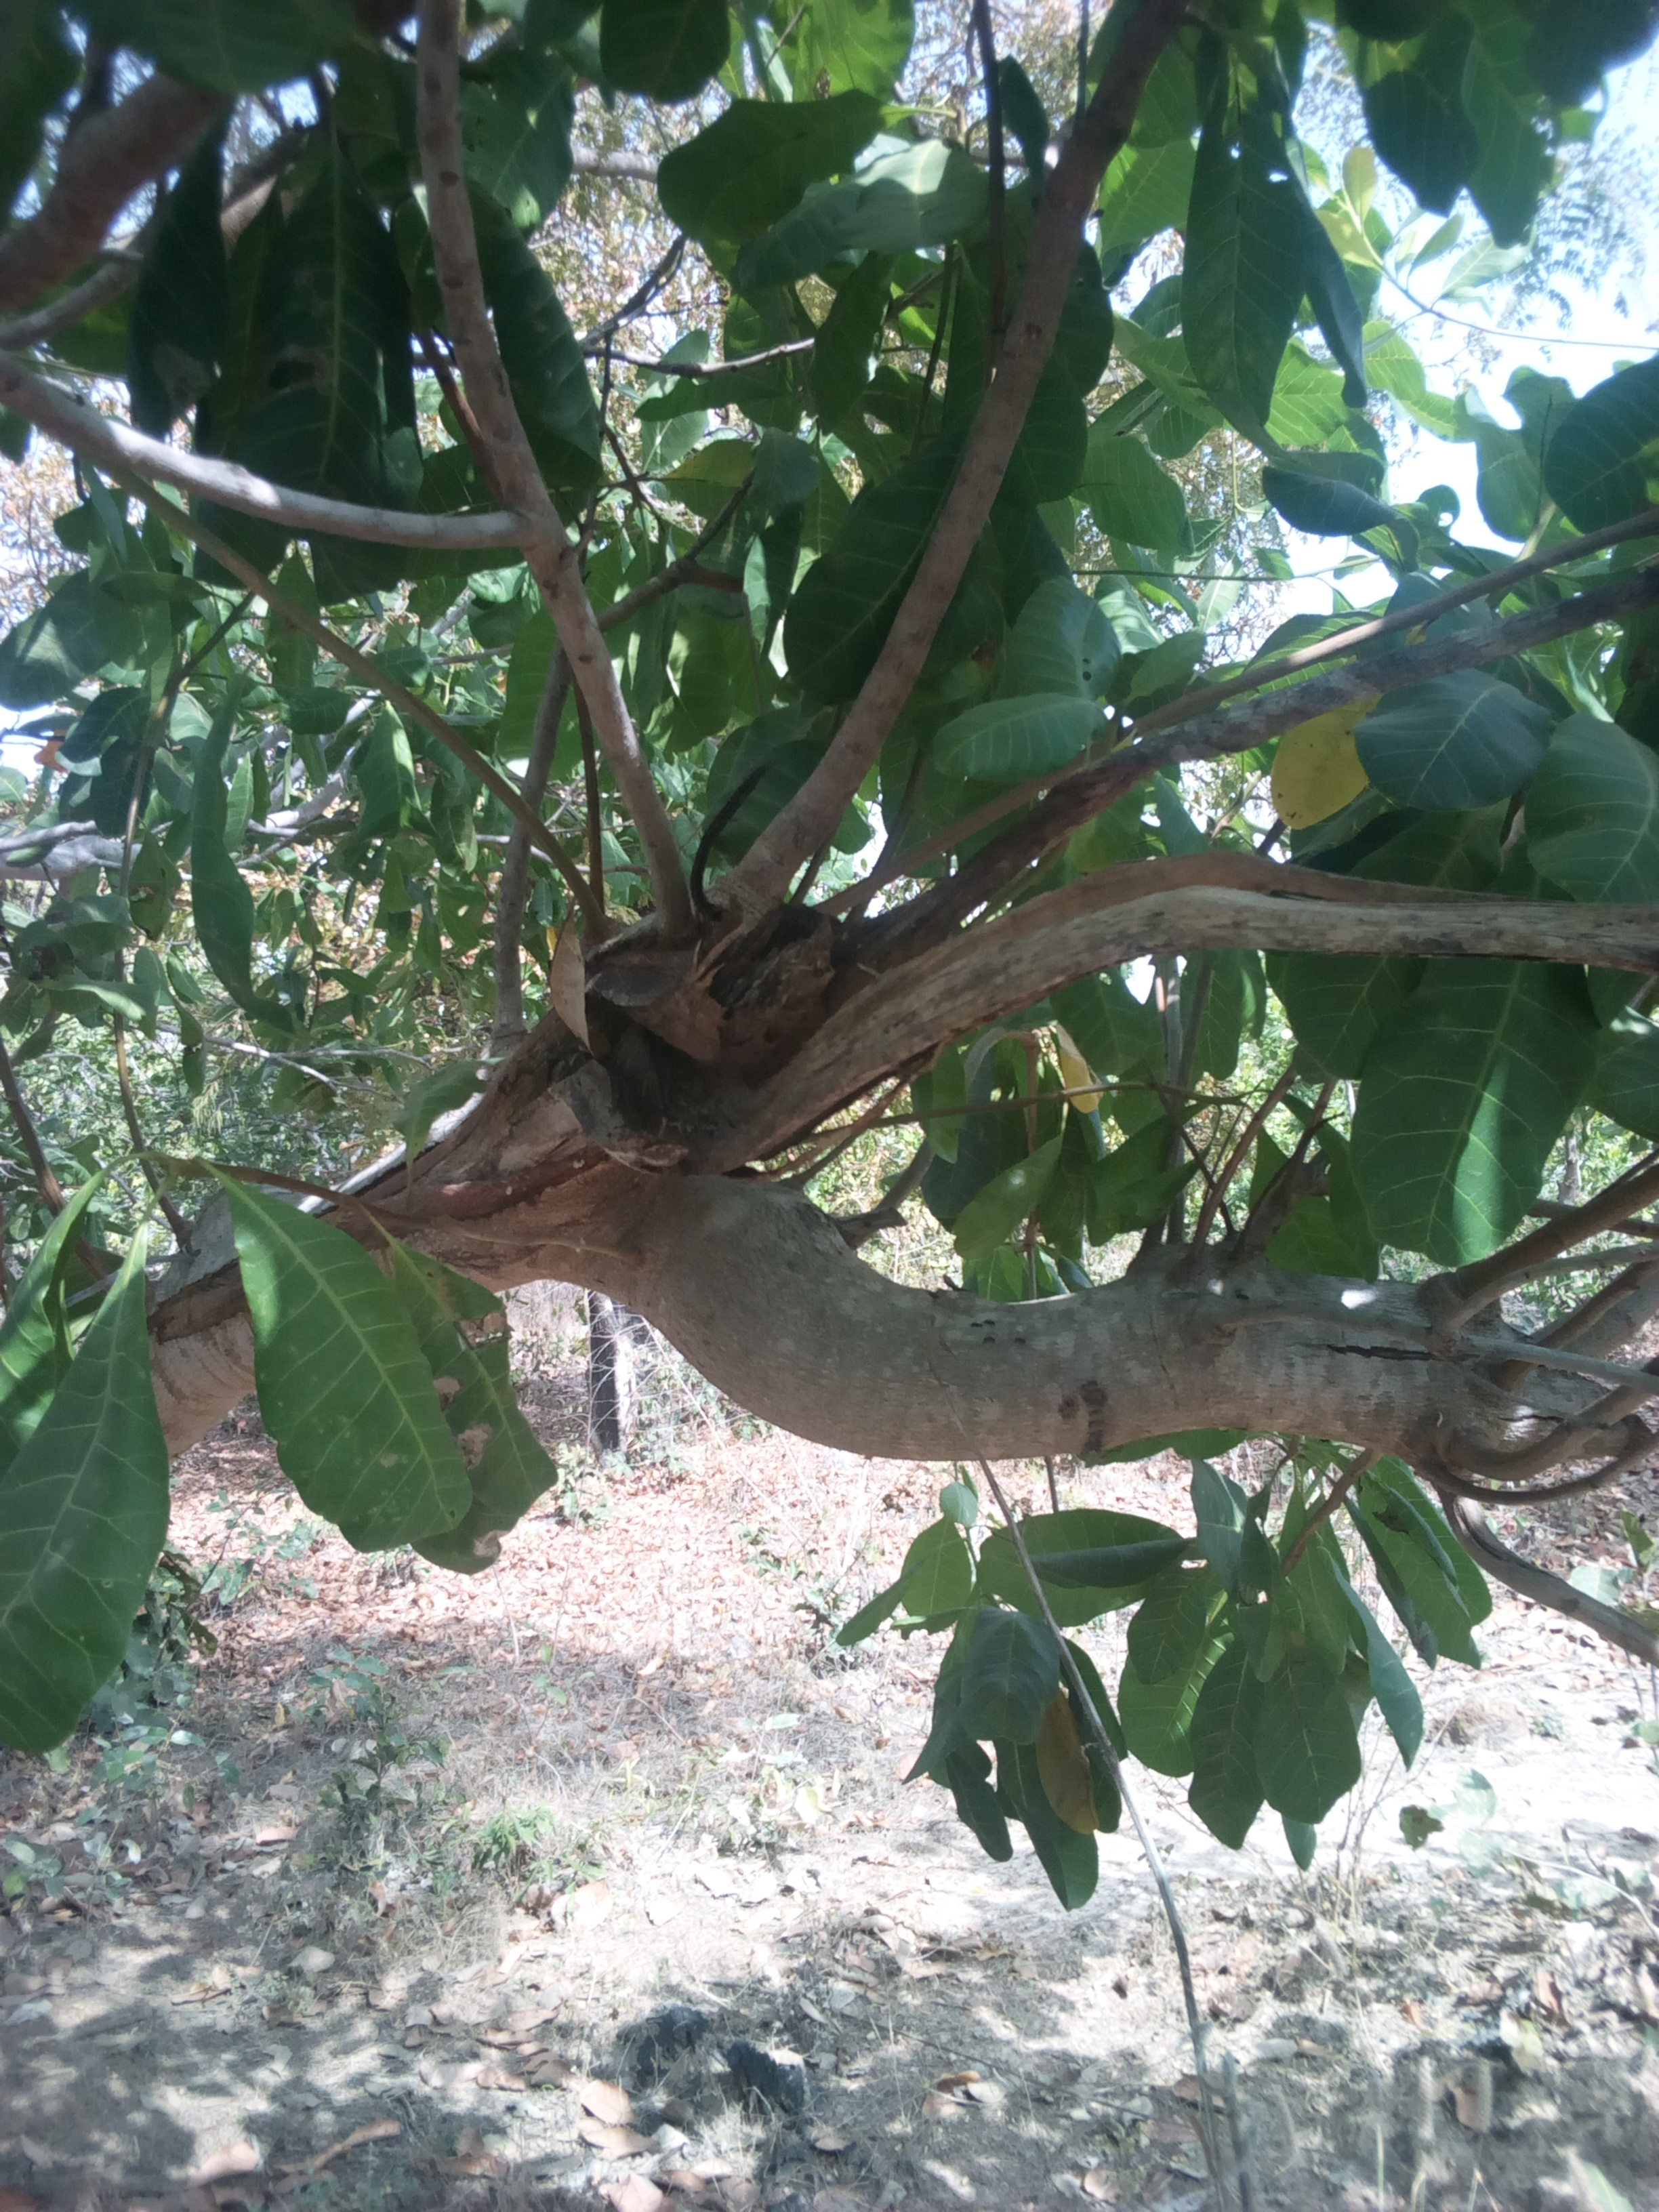Bactériose: (427, 1259, 558, 1583)
